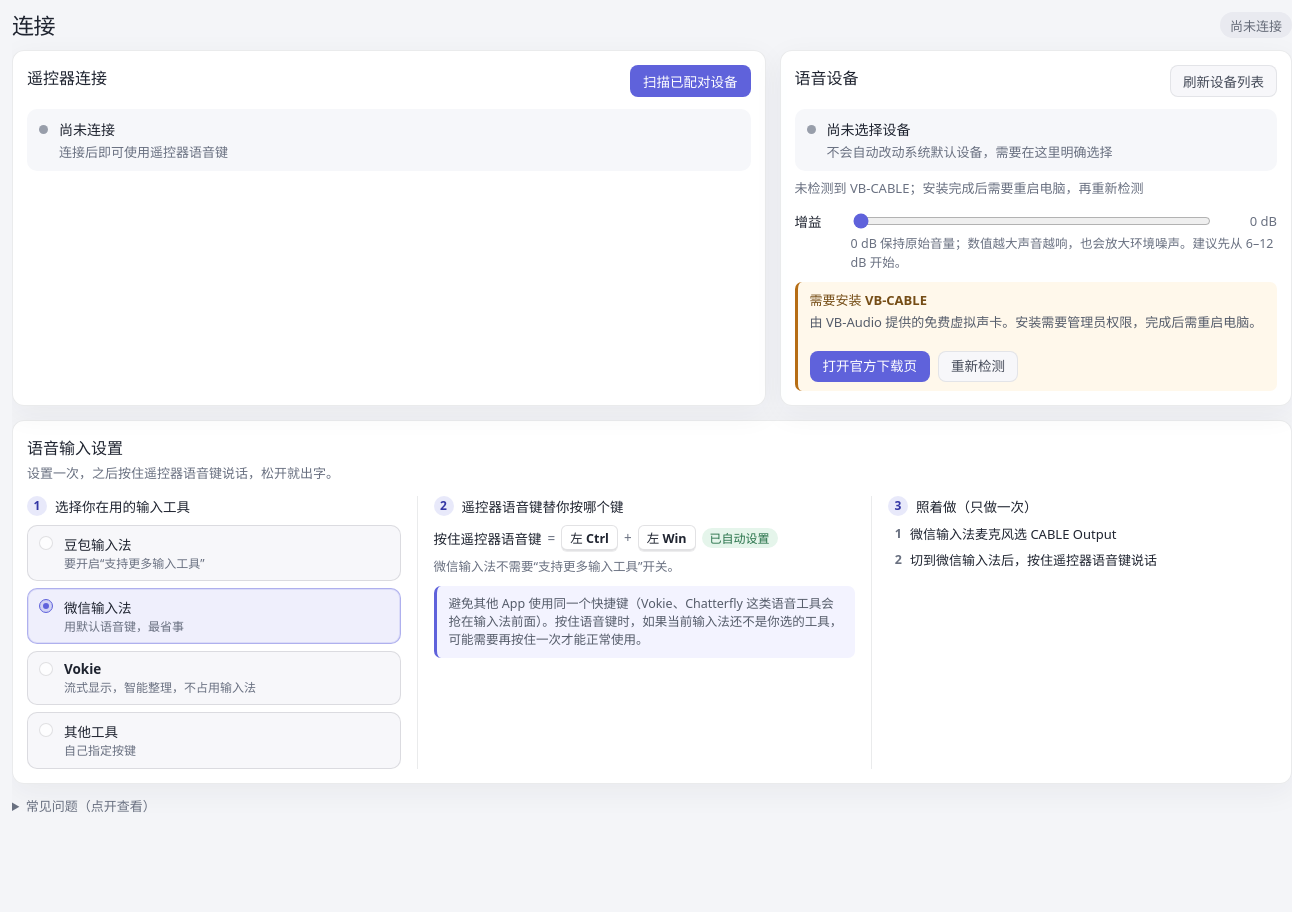
Test case: VB-CABLE first-launch guidance › 点其他工具卡片：不改变当前快捷键，改为提供按键芯片与自定义占位
Click the button with class "tool-card" showing "其他工具 自己指定按键". click: click(91, 732)
box: [27,712,400,769]
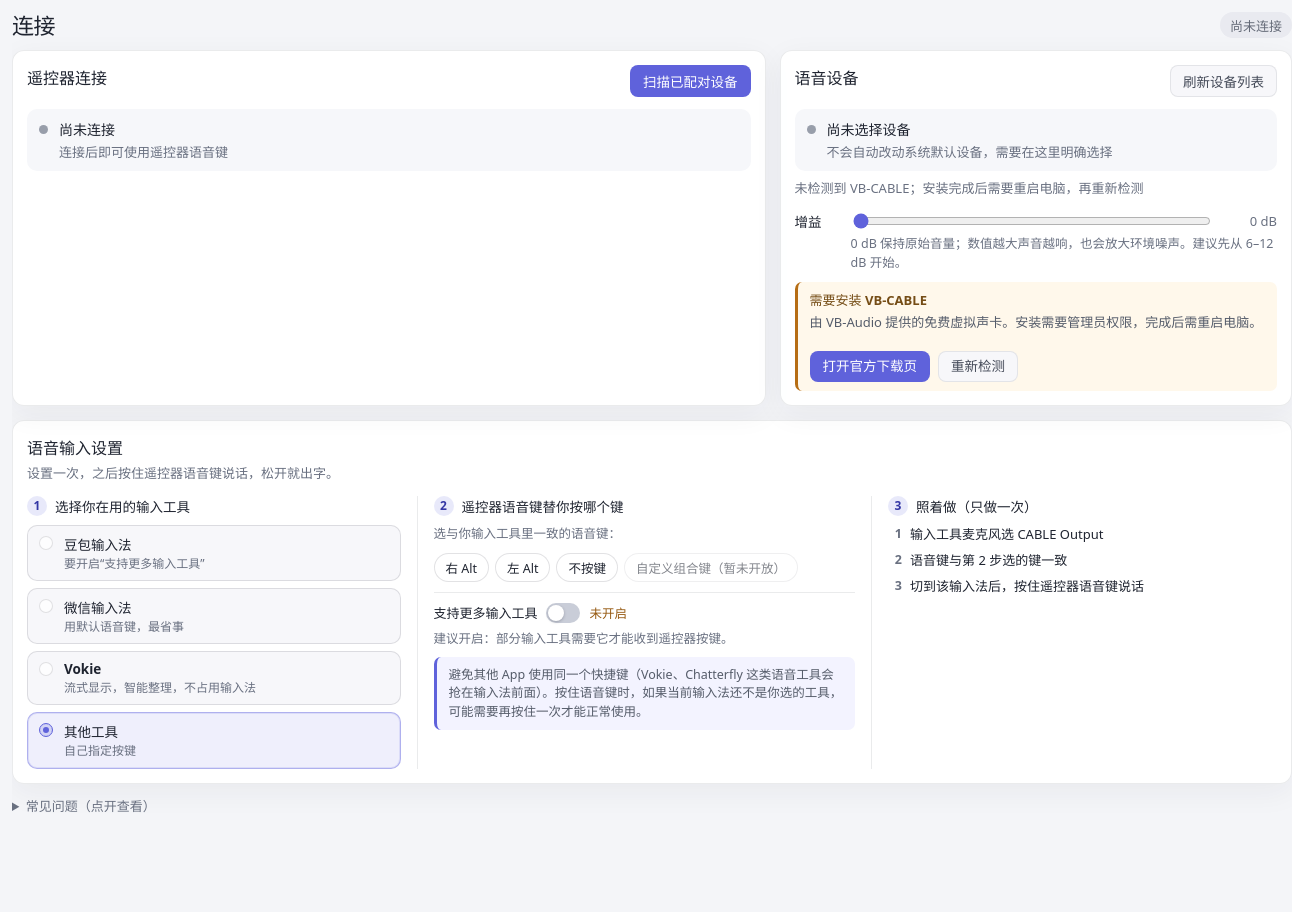
Result: the button with class "chip" reads "自定义组合键（暂未开放）" at [624,552,798,582]
